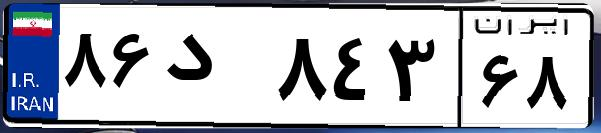3: (385, 28, 445, 110)
4: (330, 28, 385, 110)
6: (475, 38, 525, 113), (110, 28, 158, 98)
8: (270, 28, 330, 110), (57, 26, 110, 100), (525, 38, 570, 115)
د: (158, 20, 270, 120)
